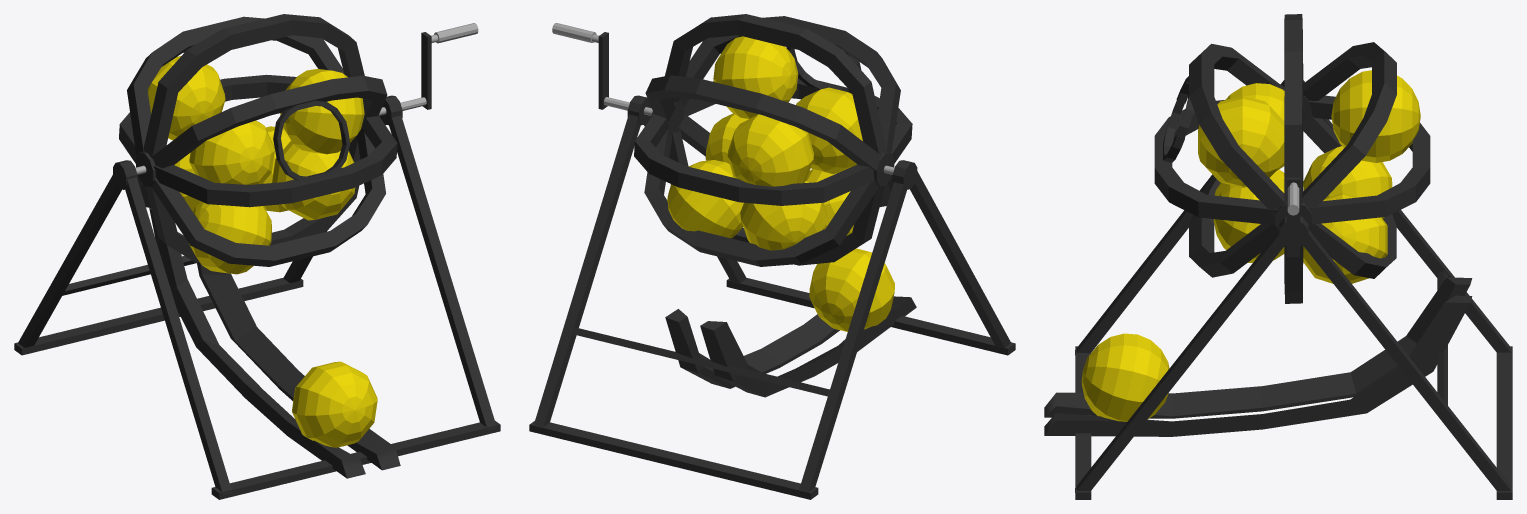
The model's file is BingoMolen.fbx.
The picture shows the model from 3 angles, left to right: view 1: azimuth 30°, elevation 25°; view 2: azimuth 150°, elevation 25°; view 3: azimuth 270°, elevation 25°; orthographic projection. The views are drawn at different scales.
Visible parts, largest first — view 1: Bingo_Ding; view 2: Bingo_Ding; view 3: Bingo_Ding.
Part boxes in pixels (x1,y1,x2,y2): Bingo_Ding: [14, 14, 500, 499]; Bingo_Ding: [529, 14, 1015, 499]; Bingo_Ding: [1044, 14, 1512, 499].
Size of the model in its own units: 24.89 by 24.31 by 26.37.
